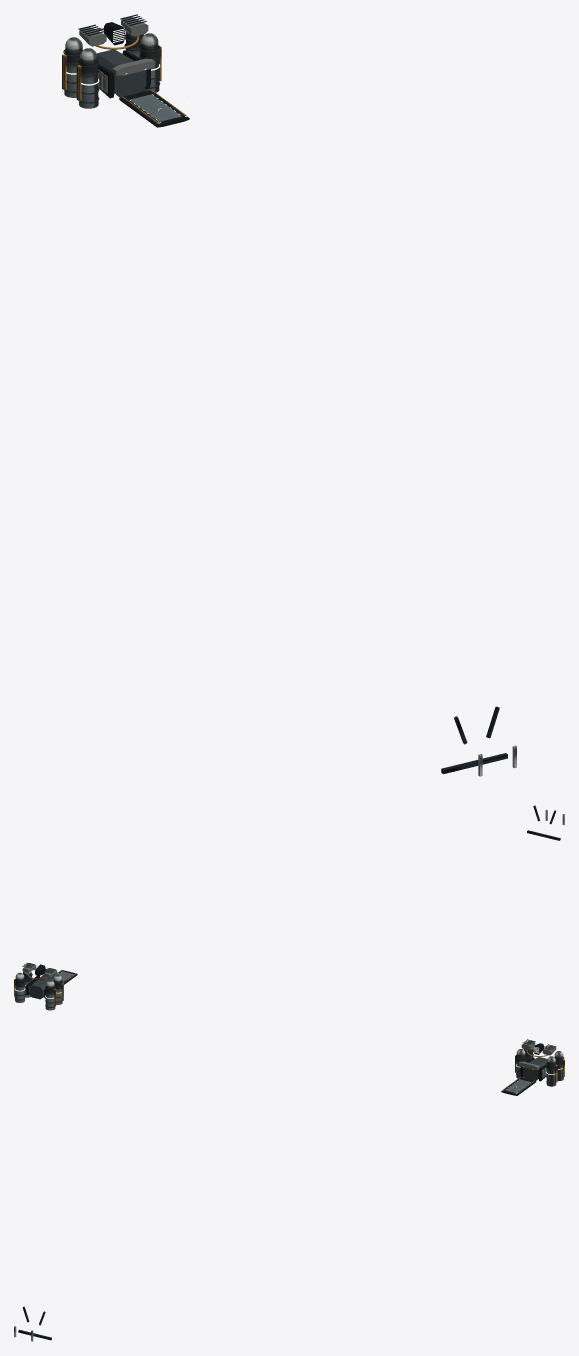
The model's file is HeliosFoundry.glb.
The picture shows the model from 3 angles, top to bottom: view 1: azimuth 30°, elevation 25°; view 2: azimuth 150°, elevation 25°; view 3: azimuth 330°, elevation 25°; orthographic projection. The views are drawn at different scales.
Visible parts, largest first — view 1: _MeshInstance3D_213; view 2: _MeshInstance3D_213; view 3: no part large enough to name.
Part boxes in pixels (left/top/right/bottom): _MeshInstance3D_213: left=97, top=49, right=146, bottom=97; _MeshInstance3D_213: left=29, top=975, right=53, bottom=999.
Bounding box in the file's own units: 418 × 162 × 1316.
Materials: 5 (4 with a texture image).
